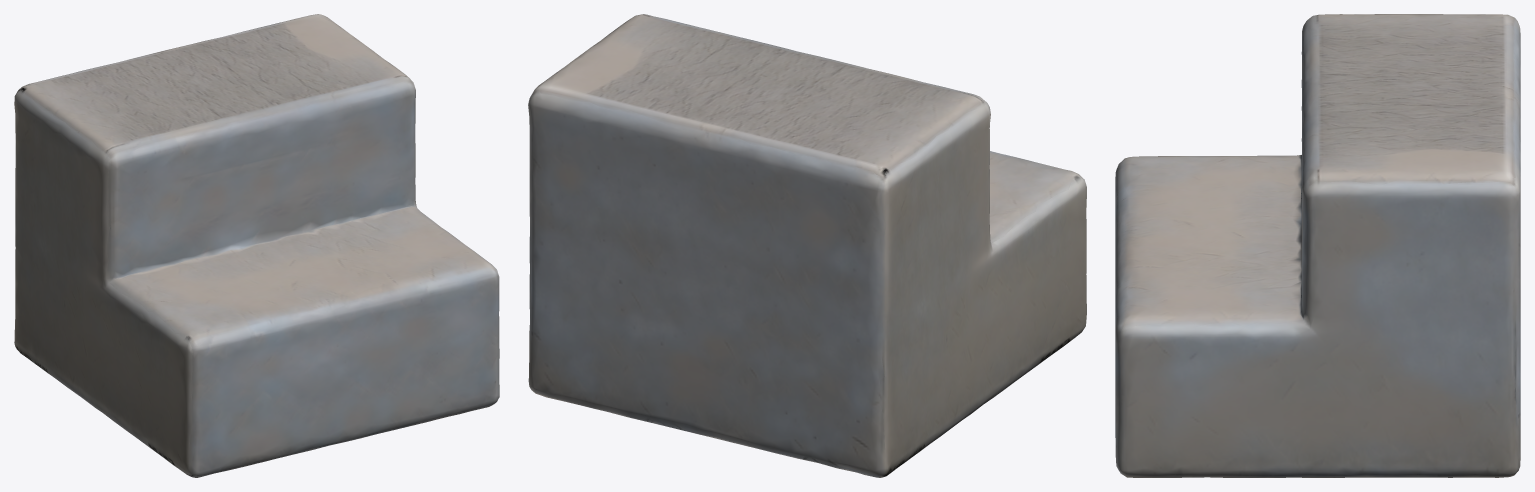
File: StraightStair.glb
3 views of the same model, side by side, from view 1: azimuth 30°, elevation 25°; view 2: azimuth 150°, elevation 25°; view 3: azimuth 270°, elevation 25° (orthographic). The views are drawn at different scales.
Parts seen in each view (by area): view 1: input; view 2: input; view 3: input.
Boxes of the visible parts, box(x1,y1,x2,y2) form: input: box(14, 14, 499, 477); input: box(528, 14, 1086, 477); input: box(1115, 14, 1520, 477).
Bounding box in the file's own units: 0.9982 × 0.8215 × 0.9957.
Materials: 1 (1 with a texture image).
